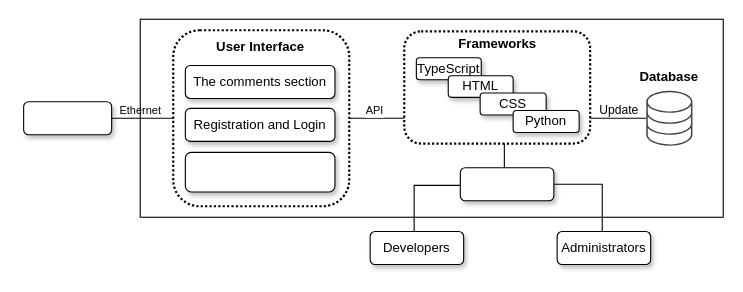
Image size: 743x292. Some labels were removed from this diagram. The shapes that lost their labels are listed below. From the top down, each one's centre as x and y in pixels, then its label:
At pixel 68 119: "Users".
At pixel 261 173: "Web page with interactive interface".
At pixel 507 185: "Authentication".
